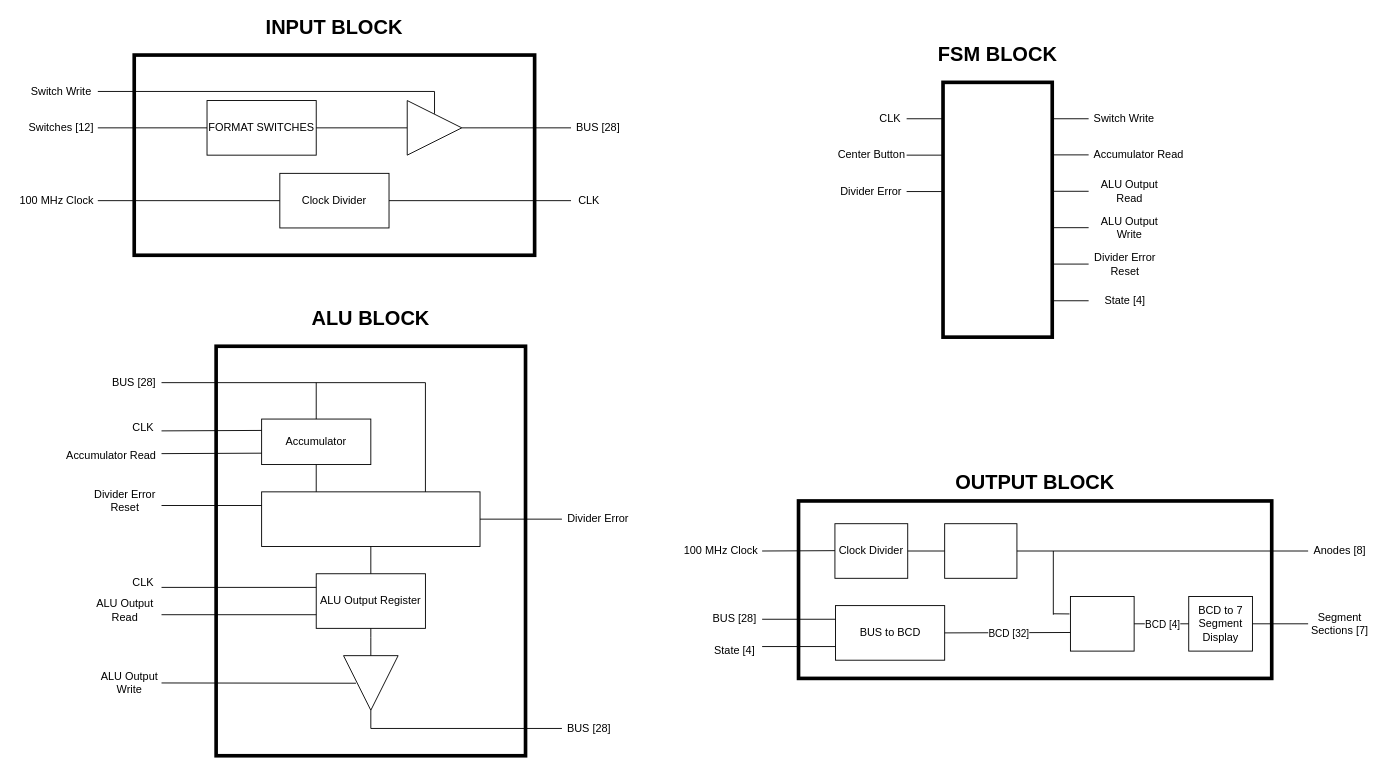
This 1387x773 diagram has some shape labels left out. The centre of each missing label's shape, as x and y in pixels:
ALU: the point at 370,518
BCD Select: the point at 1102,623
Shift Register: the point at 980,550
